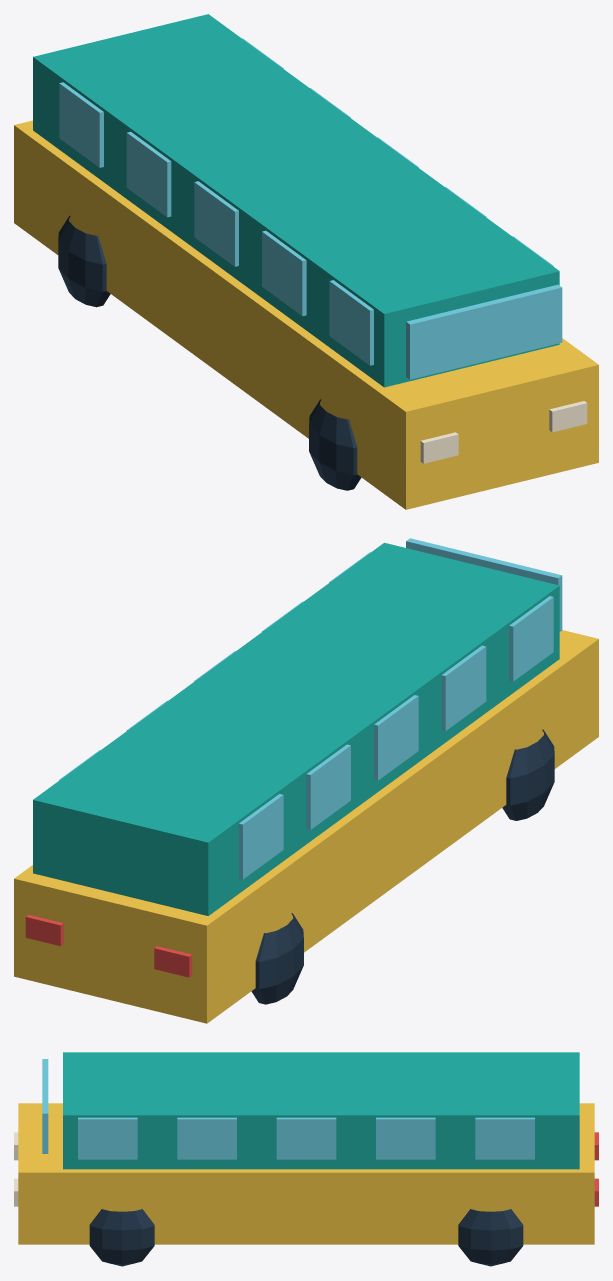
The model's file is 21_parked_bus.obj.
3 views of the same model, one above another, from view 1: azimuth 30°, elevation 25°; view 2: azimuth 150°, elevation 25°; view 3: azimuth 270°, elevation 25° (orthographic). The views are drawn at different scales.
Parts seen in each view (by area): view 1: part_1, part_0, part_2, part_8, part_9, part_4, part_5, part_6, part_7, part_3, part_10, part_19; view 2: part_1, part_0, part_9, part_8, part_6, part_5, part_7, part_3, part_4, part_2, part_11, part_20; view 3: part_1, part_0, part_17, part_18, part_14, part_12, part_13, part_15, part_16, part_2.
Boxes of the visible parts, x1,y1,x2,y2 form: part_1: (33, 14, 559, 387); part_0: (14, 120, 598, 509); part_2: (406, 284, 562, 379); part_8: (58, 215, 110, 307); part_9: (309, 399, 361, 490); part_4: (126, 131, 171, 217); part_5: (194, 181, 238, 266); part_6: (262, 230, 306, 316); part_7: (329, 280, 373, 365); part_3: (59, 82, 103, 167); part_10: (420, 432, 458, 463); part_19: (549, 401, 587, 432); part_1: (33, 542, 559, 915); part_0: (14, 630, 598, 1023); part_9: (502, 729, 554, 820); part_8: (251, 913, 303, 1004); part_6: (441, 645, 486, 730); part_5: (374, 695, 418, 780); part_7: (509, 596, 553, 681); part_3: (239, 794, 283, 879); part_4: (306, 744, 350, 829); part_2: (406, 538, 562, 631); part_11: (154, 946, 192, 977); part_20: (25, 914, 63, 946); part_1: (63, 1052, 579, 1169); part_0: (18, 1103, 594, 1244); part_17: (458, 1209, 523, 1266); part_18: (89, 1209, 154, 1266); part_14: (276, 1117, 336, 1159); part_12: (475, 1117, 534, 1159); part_13: (376, 1117, 435, 1159); part_15: (177, 1117, 236, 1159); part_16: (78, 1117, 137, 1159); part_2: (42, 1059, 48, 1153).
Bounding box in the file's own units: 1.92 × 1.65 × 5.89.
